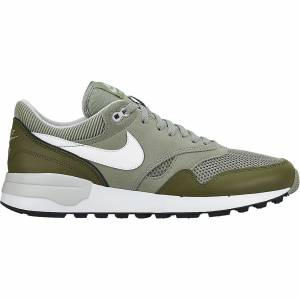nike: (33, 130, 146, 170)
